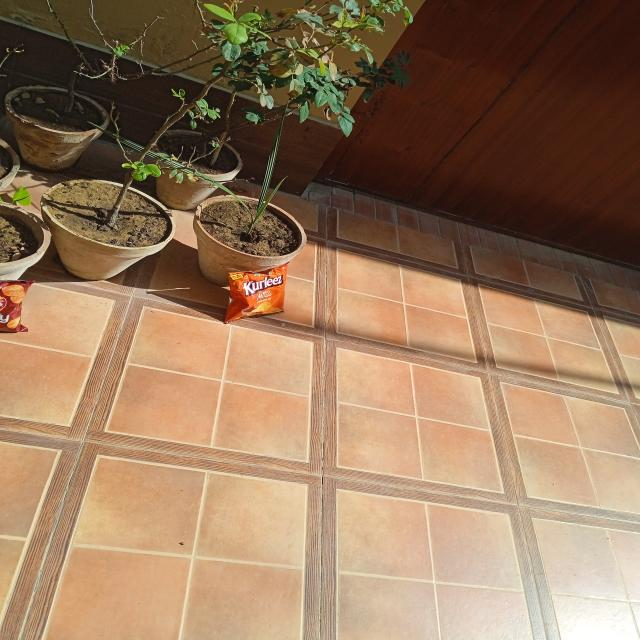Plastic: (230, 266, 284, 319)
